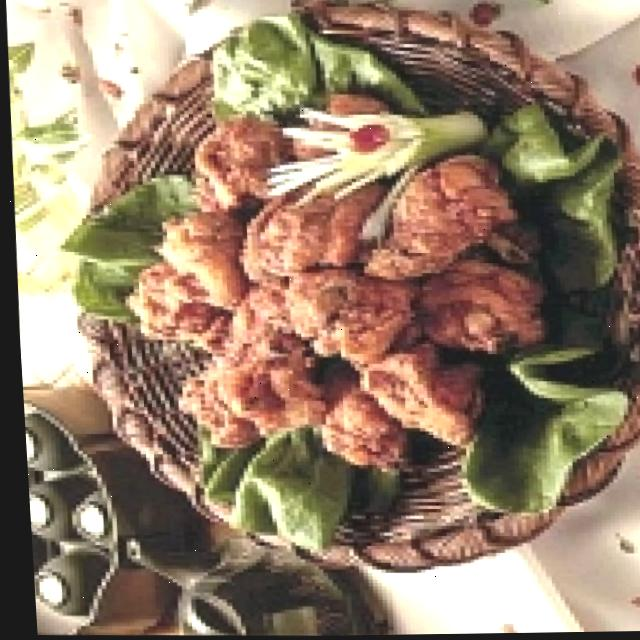鸡肉料理 含炸鸡: (89, 60, 616, 523)
